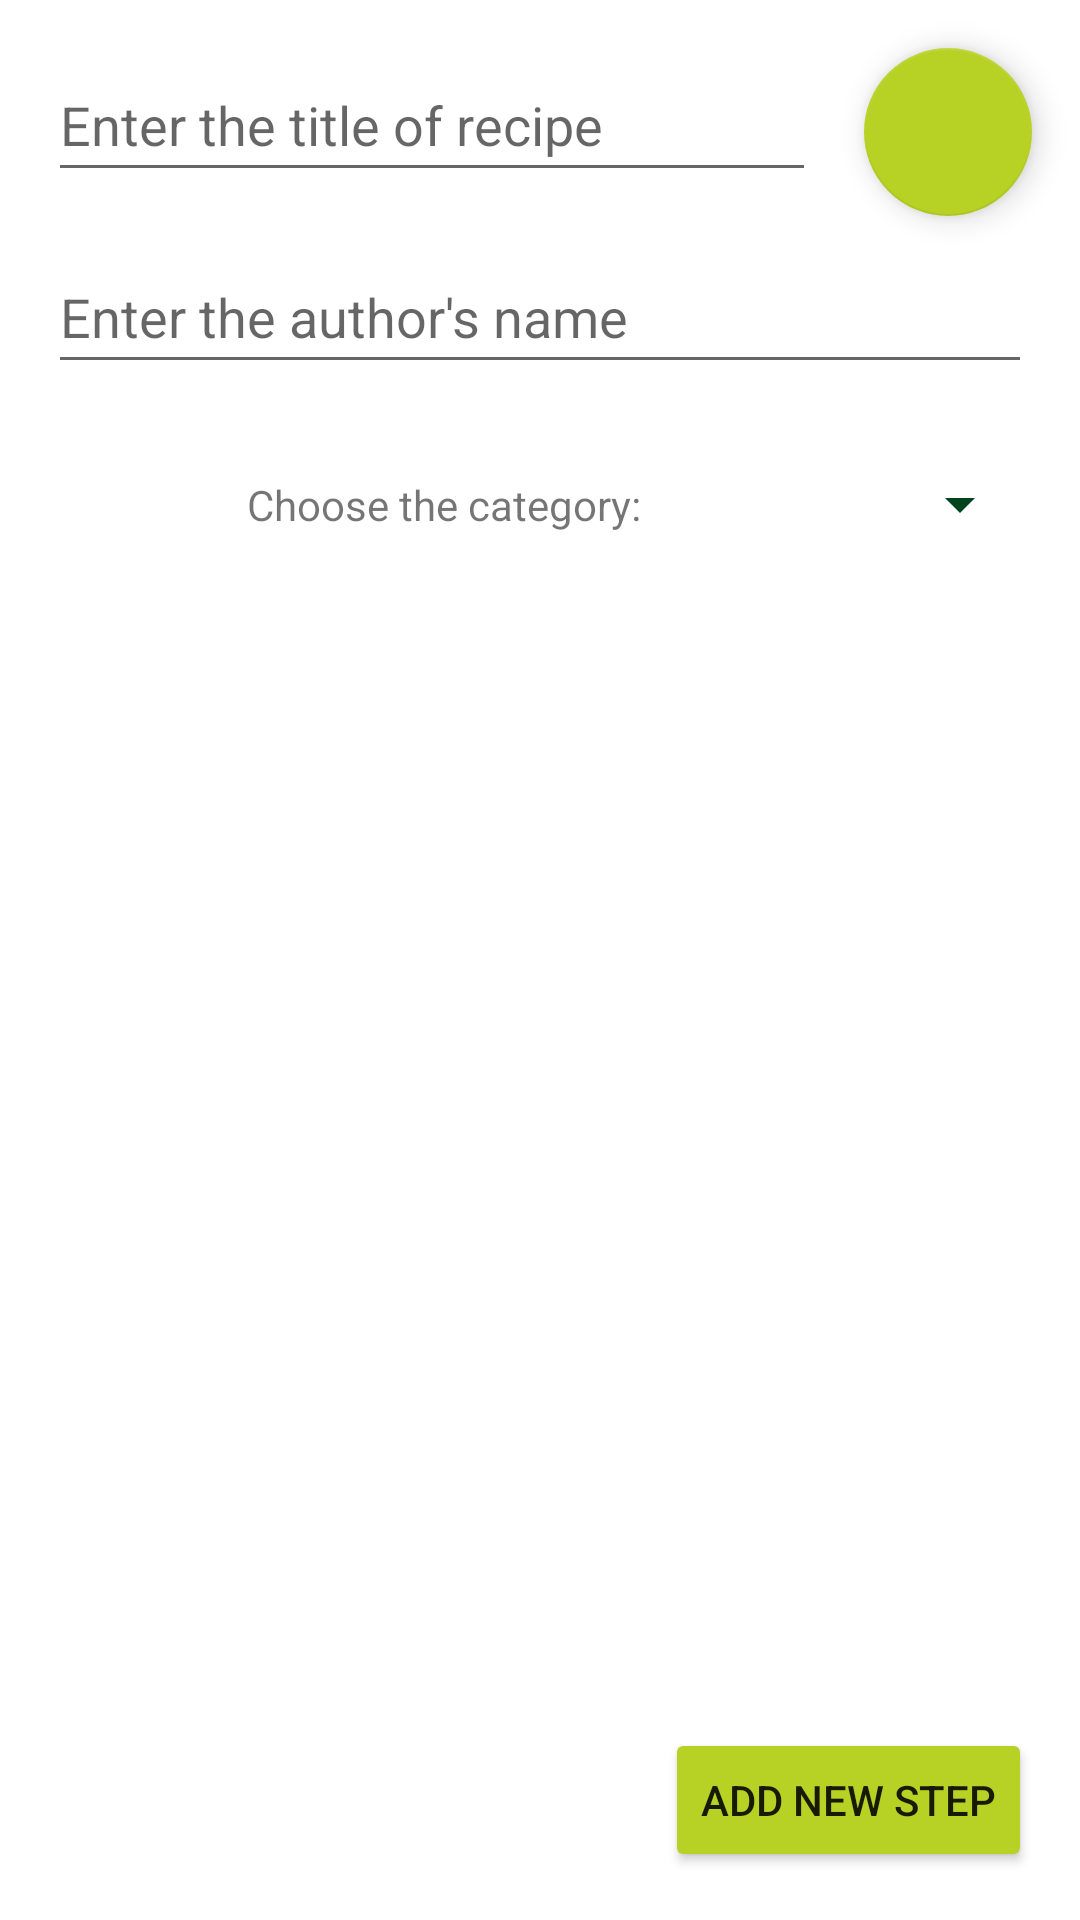

Icons on this 1080w x 1920h Android screen, each with its box as (x1,y1,x2,y2):
Categories menu button: (945,498,975,513)
